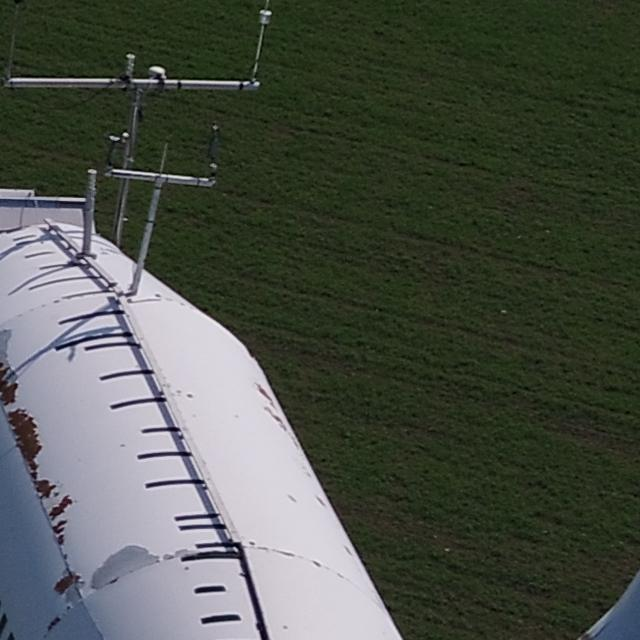damage: (89, 544, 159, 594), (6, 405, 49, 479), (2, 357, 20, 406), (30, 476, 59, 502), (47, 493, 73, 522), (50, 572, 81, 594), (49, 518, 70, 544), (257, 381, 273, 401), (44, 615, 62, 632)
